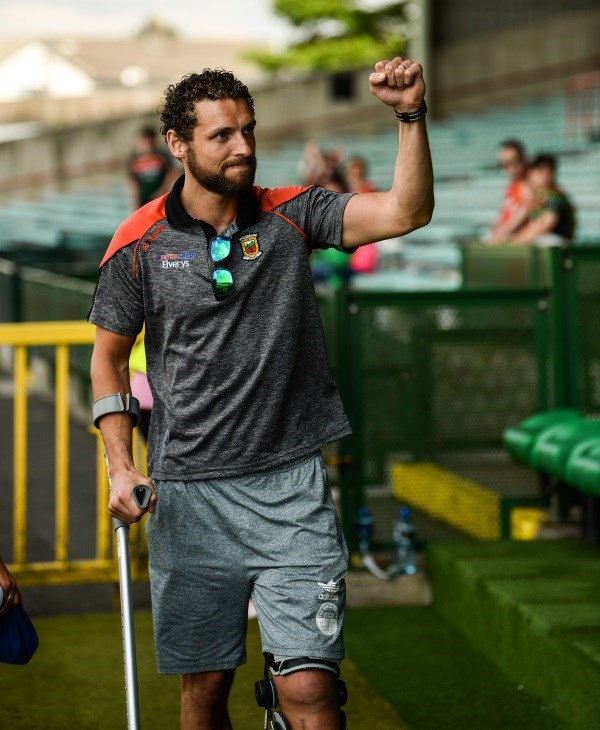player: (96, 56, 398, 691)
